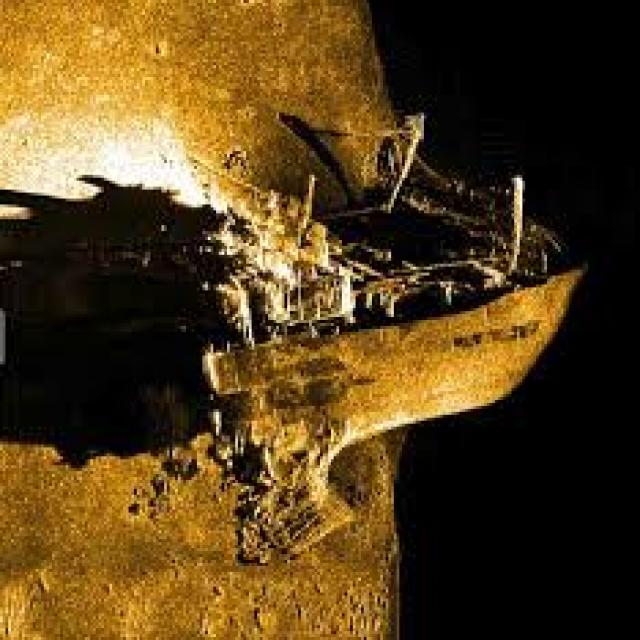ship: (183, 116, 594, 536)
